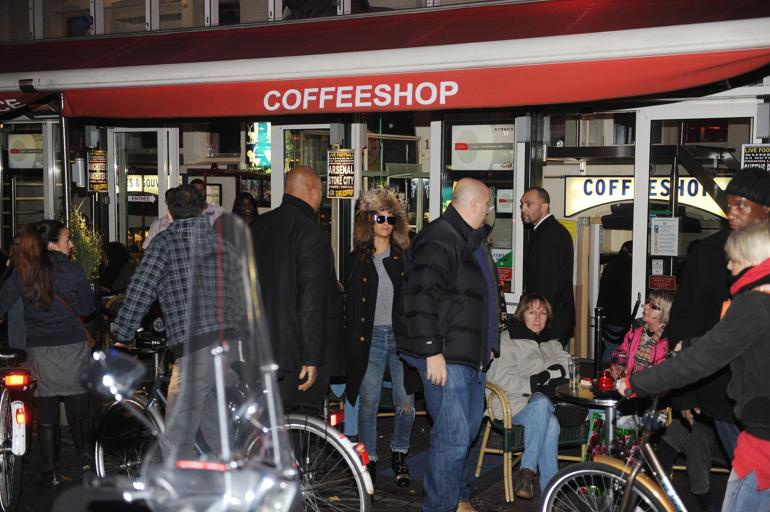non-vehicle: (90, 327, 374, 511), (534, 349, 688, 511), (0, 346, 38, 510)
